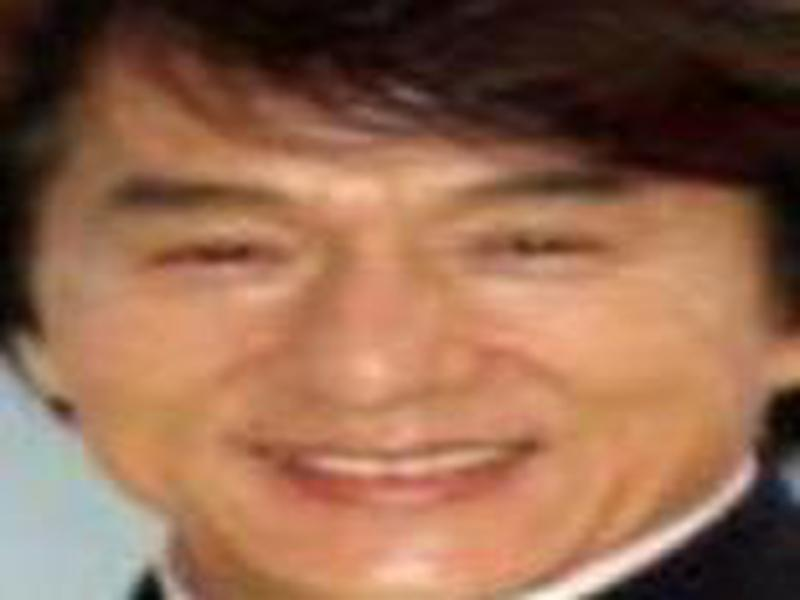without_mask: (27, 74, 753, 584)
